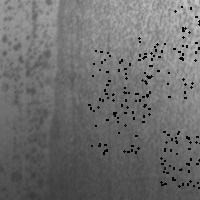pitted_surface: (69, 1, 200, 196), (1, 1, 51, 199), (88, 93, 148, 152), (92, 50, 150, 110), (138, 37, 195, 97), (160, 131, 200, 187), (161, 131, 200, 184), (164, 6, 200, 62)
